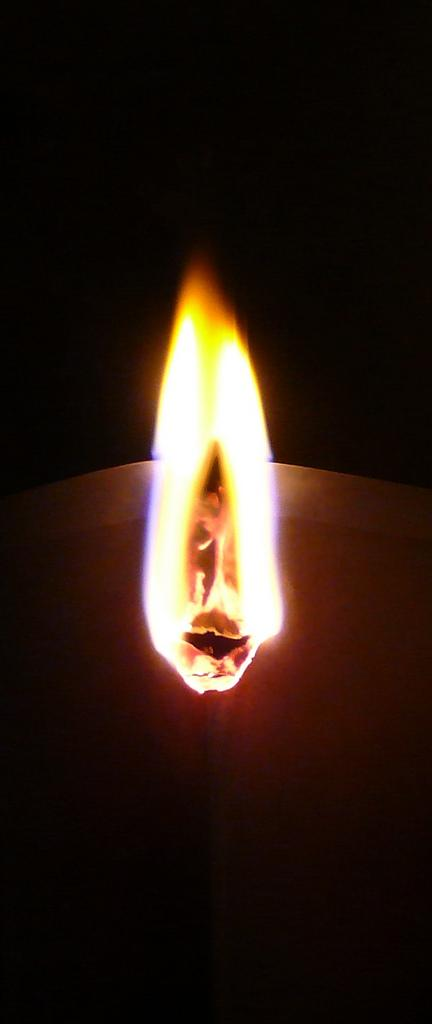fire: (148, 312, 288, 682)
